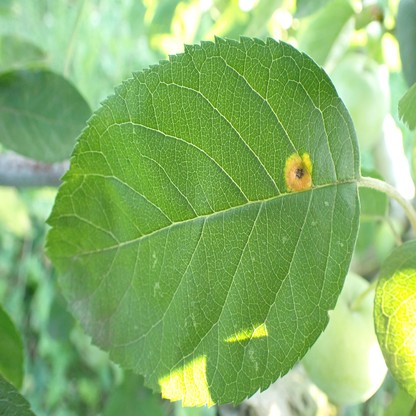powdery_mildew: (58, 271, 113, 350)
rust: (283, 153, 313, 190)
